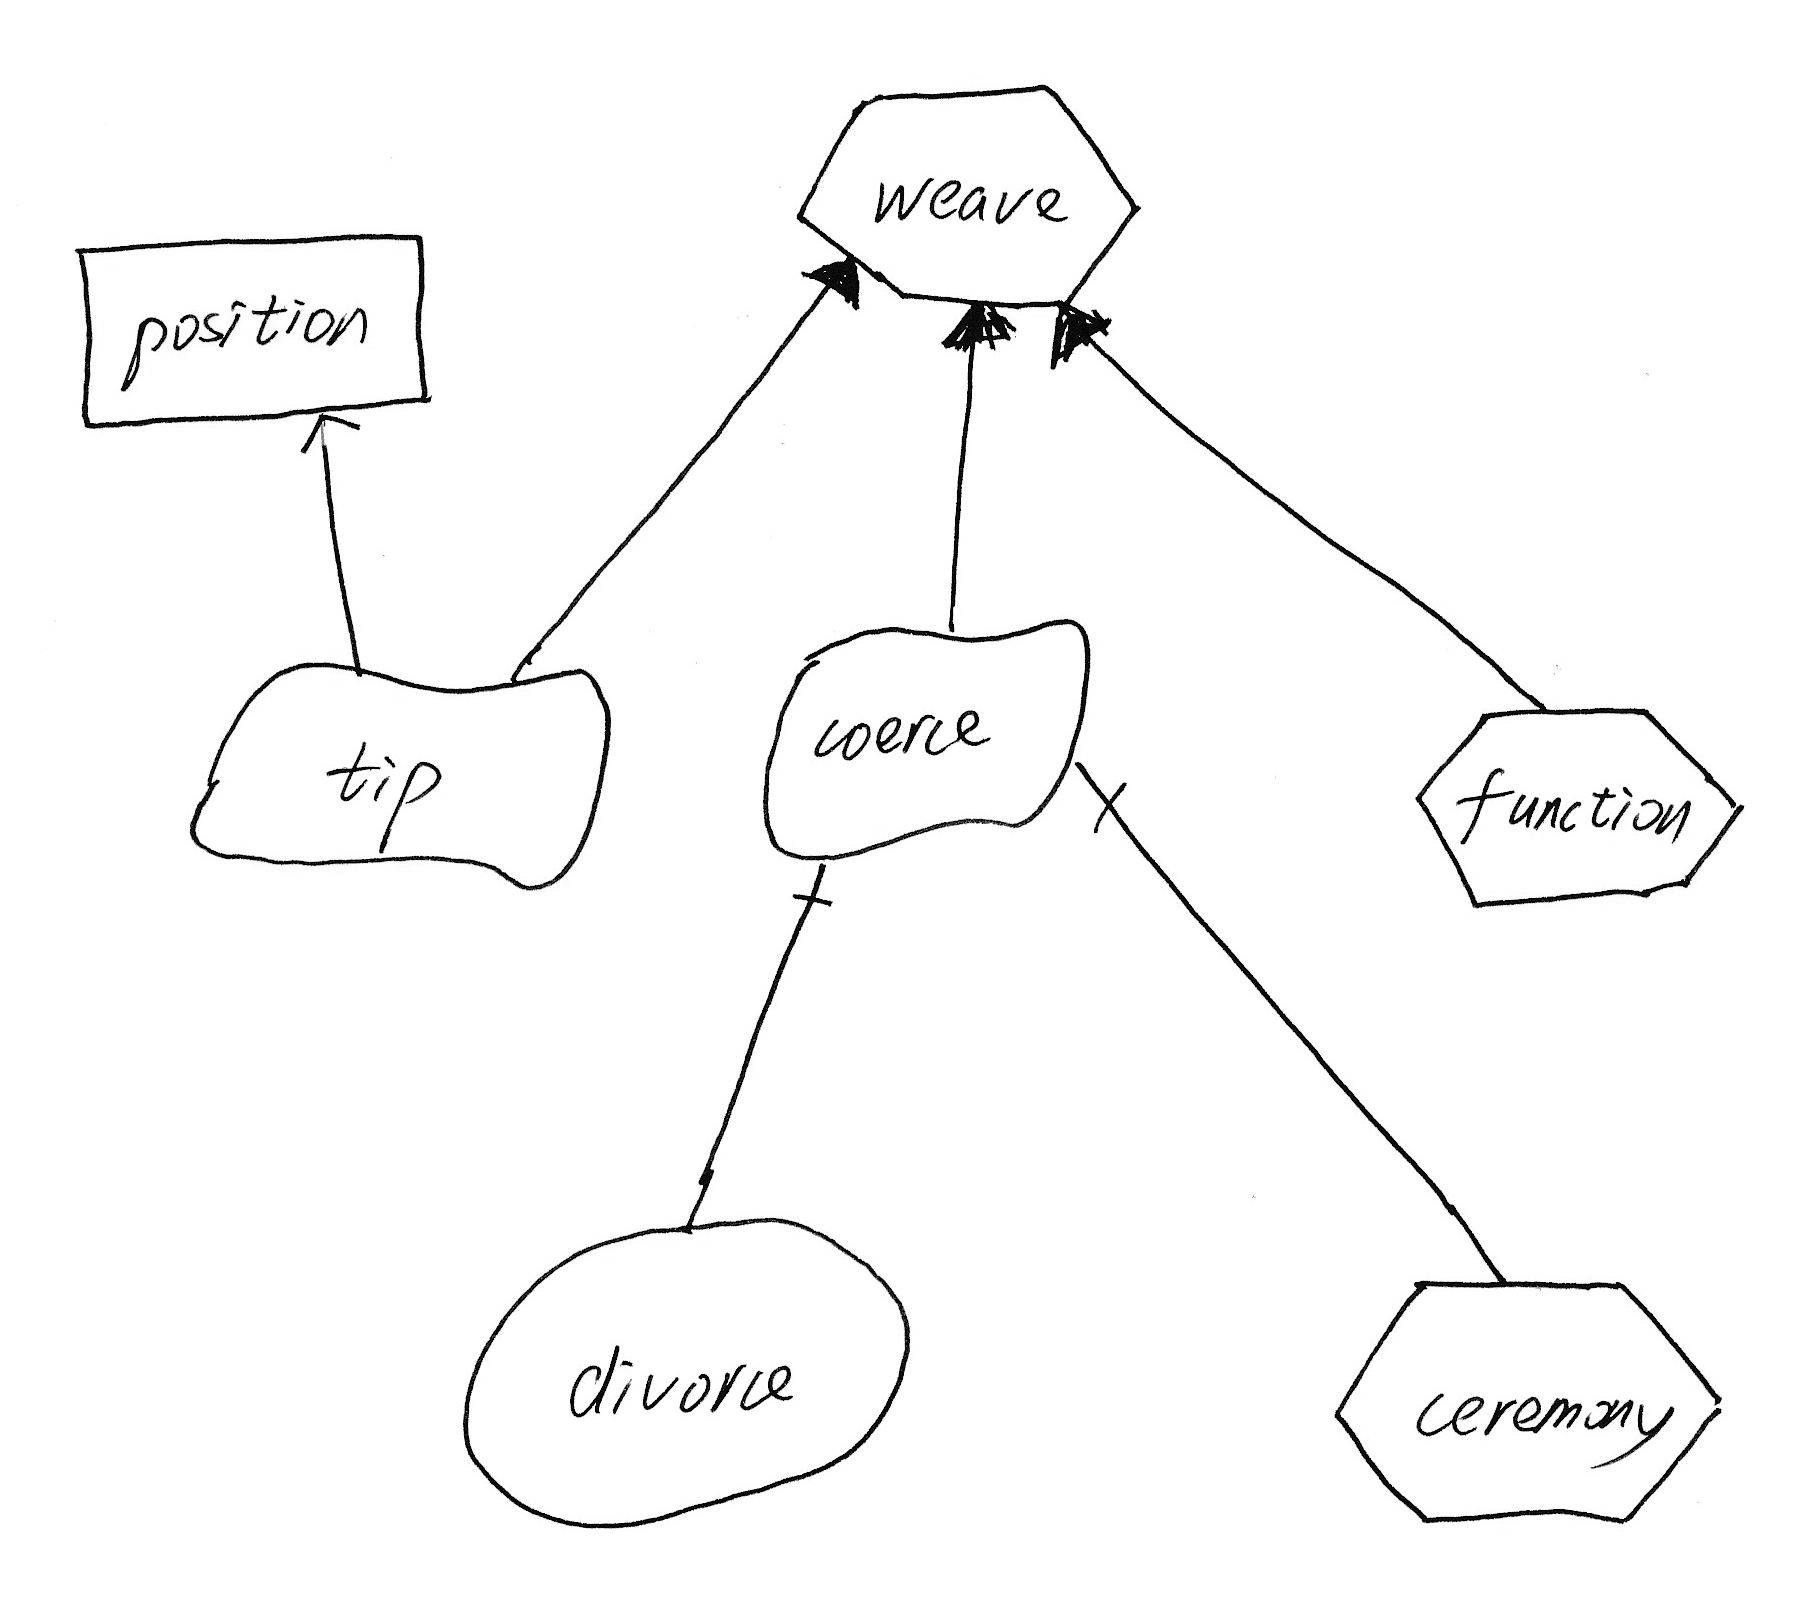and: (1060, 743, 1139, 841), (773, 848, 852, 929)
arrow: (295, 399, 369, 473)
goal: (439, 1191, 932, 1545)
or: (790, 236, 881, 325), (1034, 289, 1121, 377), (937, 289, 1026, 362)
quality: (159, 643, 628, 899), (739, 600, 1110, 875)
resource: (56, 213, 458, 447)
task: (1312, 1261, 1750, 1539), (785, 70, 1152, 329), (1405, 689, 1767, 926)
